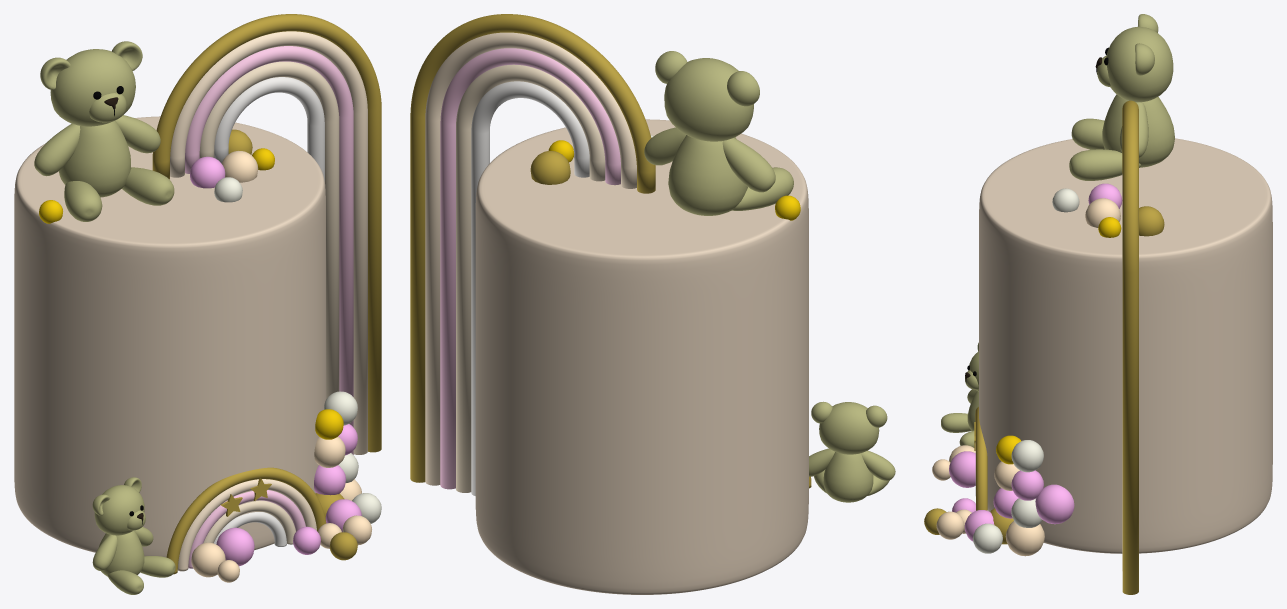
File: Rainbow_3.glb
3 renders of one model, left to right at view 1: azimuth 30°, elevation 25°; view 2: azimuth 150°, elevation 25°; view 3: azimuth 270°, elevation 25°, orthographic. The views are drawn at different scales.
Visible parts, largest first — view 1: Circle, Object_26.001, Cylinder.011, Cylinder.015, Cylinder.013, Cylinder.010, Object_26, Cylinder.009, Cylinder.003, Cylinder.001, Cylinder.002, Cylinder.004 (+15 smaller); view 2: Circle, Object_26.001, Cylinder.011, Cylinder.015, Cylinder.013, Cylinder.010, Object_26, Cylinder.009, Sphere.022; view 3: Circle, Object_26.001, Cylinder.011, Object_26, Sphere.018, Sphere.010, Cylinder.003, Sphere.002, Sphere.017, Sphere.015, Sphere.011, Sphere.021 (+9 smaller).
Part boxes in pixels (bbox=[...]): Circle: bbox=[14, 116, 325, 557]; Object_26.001: bbox=[34, 41, 174, 221]; Cylinder.011: bbox=[152, 14, 381, 452]; Cylinder.015: bbox=[170, 31, 367, 454]; Cylinder.013: bbox=[185, 46, 353, 454]; Cylinder.010: bbox=[199, 61, 339, 399]; Object_26: bbox=[92, 477, 175, 594]; Cylinder.009: bbox=[214, 77, 324, 181]; Cylinder.003: bbox=[166, 467, 326, 574]; Cylinder.001: bbox=[177, 479, 316, 571]; Cylinder.002: bbox=[188, 490, 305, 568]; Cylinder.004: bbox=[203, 500, 295, 544]; Circle: bbox=[475, 119, 808, 594]; Object_26.001: bbox=[644, 51, 793, 215]; Cylinder.011: bbox=[410, 14, 655, 482]; Cylinder.015: bbox=[425, 32, 636, 485]; Cylinder.013: bbox=[440, 48, 620, 489]; Cylinder.010: bbox=[456, 64, 605, 492]; Object_26: bbox=[809, 401, 895, 502]; Cylinder.009: bbox=[471, 81, 589, 495]; Sphere.022: bbox=[530, 151, 570, 184]; Circle: bbox=[979, 138, 1272, 553]; Object_26.001: bbox=[1069, 14, 1174, 180]; Cylinder.011: bbox=[1122, 100, 1138, 594]; Object_26: bbox=[941, 342, 978, 447]; Sphere.018: bbox=[1035, 484, 1074, 524]; Sphere.010: bbox=[1005, 521, 1044, 556]; Cylinder.003: bbox=[975, 407, 987, 510]; Sphere.002: bbox=[949, 451, 975, 487]; Sphere.017: bbox=[1011, 440, 1043, 472]; Sphere.015: bbox=[1011, 470, 1043, 500]; Sphere.011: bbox=[973, 523, 1002, 553]; Sphere.021: bbox=[1085, 198, 1120, 227].
Size of the model in its own units: 0.2036 by 0.2452 by 0.1768.
